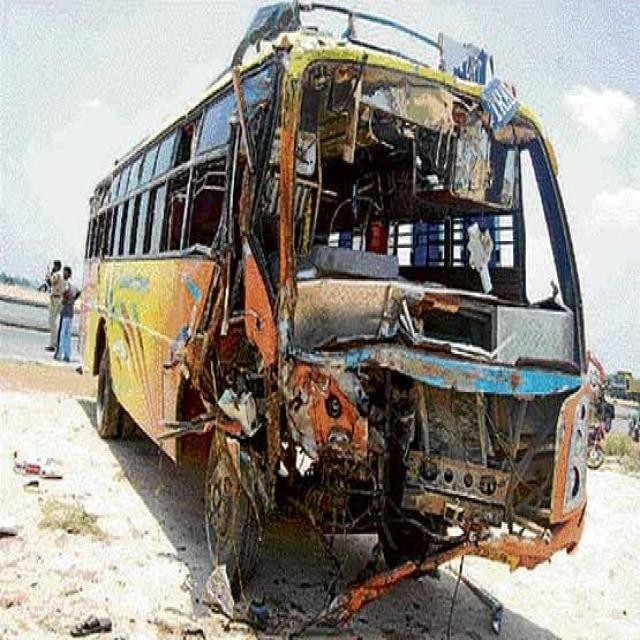accident: (81, 2, 590, 588)
